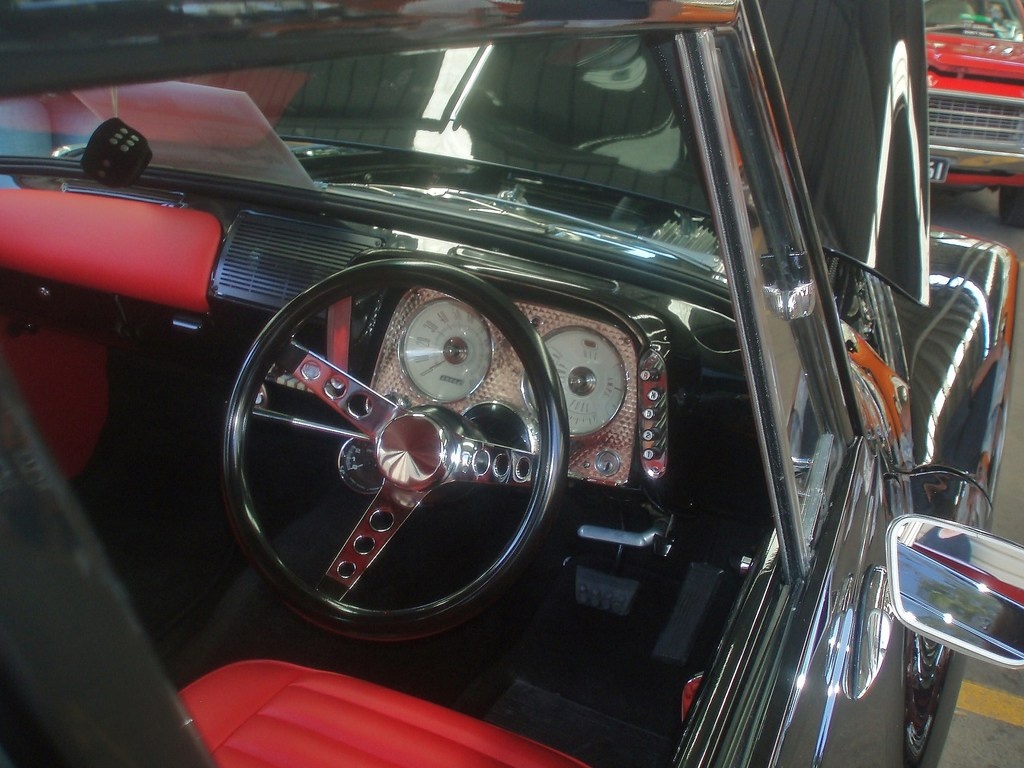Car: (0, 0, 1023, 767), (924, 1, 1023, 222)
